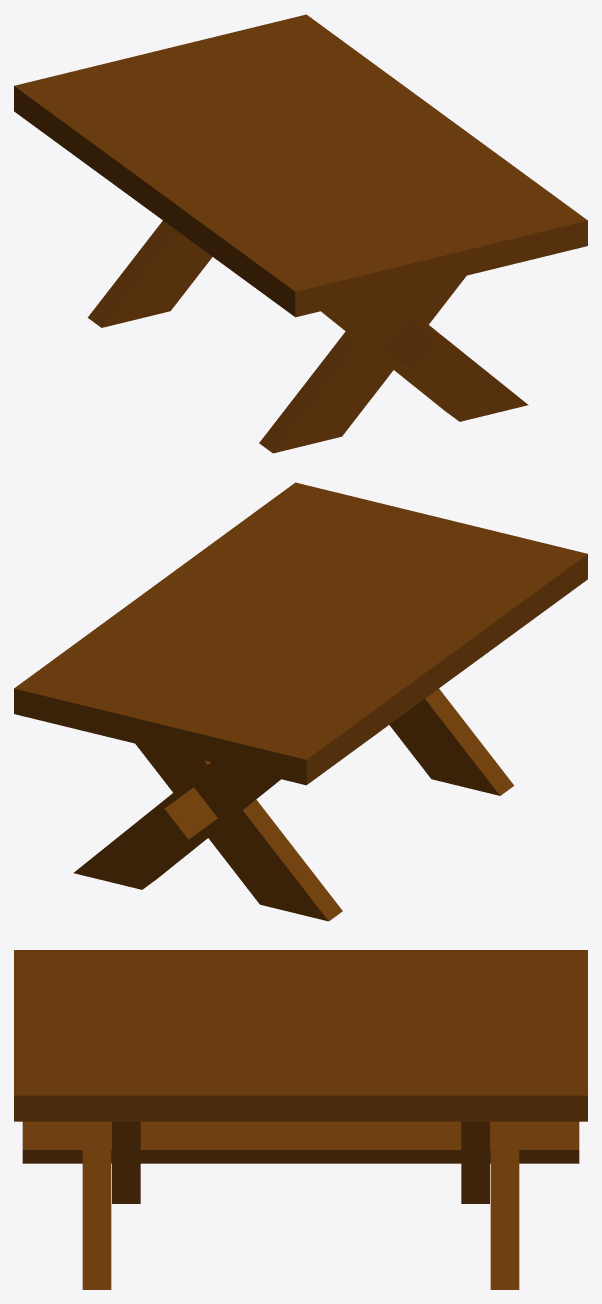
Rendered from Table.fbx.
3 views of the same model, one above another, from view 1: azimuth 30°, elevation 25°; view 2: azimuth 150°, elevation 25°; view 3: azimuth 270°, elevation 25° (orthographic).
Visible parts, largest first — view 1: Top; view 2: Top; view 3: Top.
Boxes of the visible parts, <box> form: Top: <box>14,14,587,453</box>; Top: <box>14,482,587,921</box>; Top: <box>14,950,587,1289</box>.
Size of the model in its own units: 60 by 39.78 by 100.
1 material, 1 textured.
